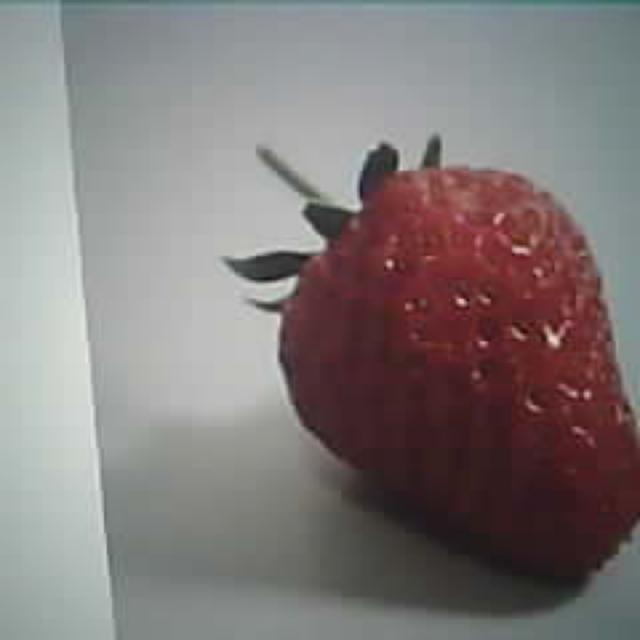ripe: (280, 162, 640, 584)
